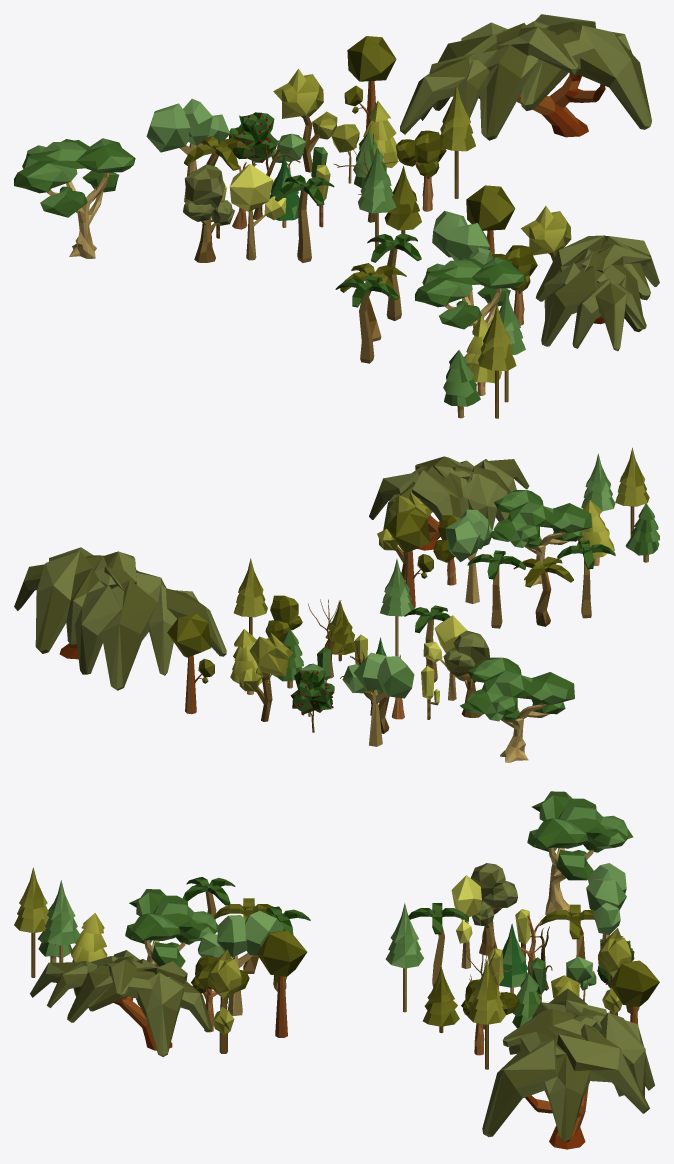
File: Greenery.glb
3 renders of one model, top to bottom at view 1: azimuth 30°, elevation 25°; view 2: azimuth 150°, elevation 25°; view 3: azimuth 270°, elevation 25°, orthographic. The views are drawn at different scales.
Visible parts, largest first — view 1: tree_19, tree_19.001, tree_18, tree_18.001, tree_24, tree_13, tree_22, tree_25, tree_23, tree_24.001, tree_14, tree_25.001 (+20 smaller); view 2: tree_19, tree_19.001, tree_18, tree_18.001, tree_24, tree_25, tree_24.001, tree_22, tree_25.001, tree_13, tree_12, tree_21.001 (+17 smaller); view 3: tree_19, tree_19.001, tree_18, tree_18.001, tree_24.001, tree_25.001, tree_13, tree_24, tree_22.001, tree_25, tree_8, tree_8.001 (+16 smaller).
Boxes of the visible parts, left/top/right/bottom form: tree_19: left=400, top=14, right=651, bottom=140; tree_19.001: left=536, top=235, right=659, bottom=351; tree_18: left=14, top=138, right=135, bottom=258; tree_18.001: left=415, top=257, right=525, bottom=335; tree_24: left=146, top=98, right=229, bottom=202; tree_13: left=183, top=164, right=234, bottom=262; tree_22: left=273, top=68, right=337, bottom=172; tree_25: left=344, top=36, right=396, bottom=129; tree_23: left=229, top=164, right=286, bottom=260; tree_24.001: left=432, top=211, right=492, bottom=326; tree_14: left=395, top=130, right=446, bottom=211; tree_25.001: left=466, top=185, right=515, bottom=287; tree_19: left=14, top=547, right=226, bottom=690; tree_19.001: left=369, top=456, right=529, bottom=550; tree_18: left=460, top=657, right=574, bottom=762; tree_18.001: left=491, top=490, right=591, bottom=585; tree_24: left=342, top=652, right=414, bottom=746; tree_25: left=167, top=613, right=214, bottom=714; tree_24.001: left=445, top=509, right=493, bottom=603; tree_22: left=237, top=632, right=292, bottom=721; tree_25.001: left=386, top=509, right=433, bottom=608; tree_13: left=443, top=630, right=489, bottom=717; tree_12: left=290, top=670, right=334, bottom=732; tree_21.001: left=513, top=556, right=573, bottom=626; tree_19: left=482, top=988, right=654, bottom=1149; tree_19.001: left=30, top=950, right=212, bottom=1056; tree_18: left=527, top=791, right=633, bottom=914; tree_18.001: left=125, top=889, right=218, bottom=967; tree_24.001: left=198, top=910, right=283, bottom=1015; tree_25.001: left=257, top=930, right=307, bottom=1037; tree_13: left=470, top=863, right=517, bottom=955; tree_24: left=586, top=863, right=626, bottom=940; tree_22.001: left=208, top=949, right=241, bottom=1053; tree_25: left=609, top=960, right=659, bottom=1025; tree_8: left=467, top=959, right=506, bottom=1069; tree_8.001: left=14, top=867, right=48, bottom=977.
Size of the model in its own units: 3.94 by 0.721 by 3.64.
1 material, 1 textured.
